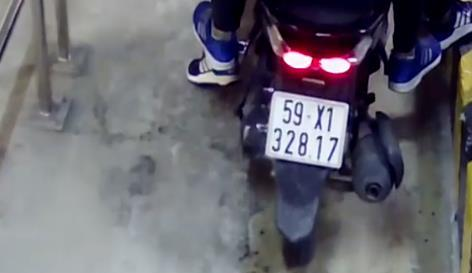lisence: (266, 90, 349, 171)
